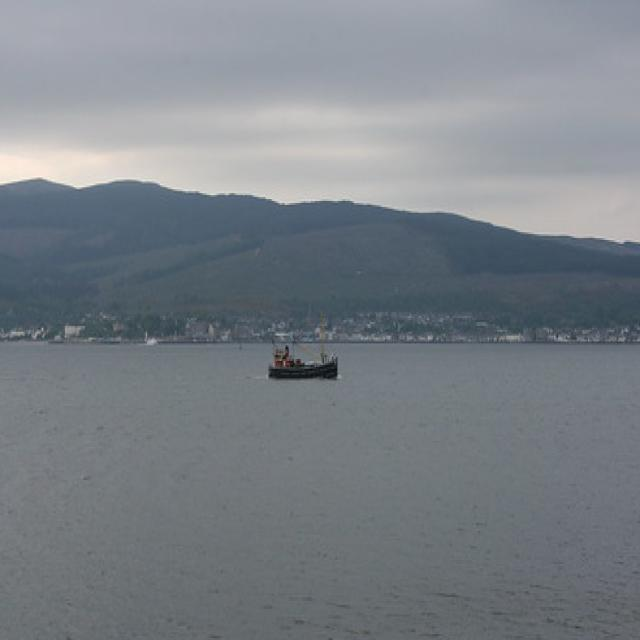fishing boat: (257, 309, 341, 381)
